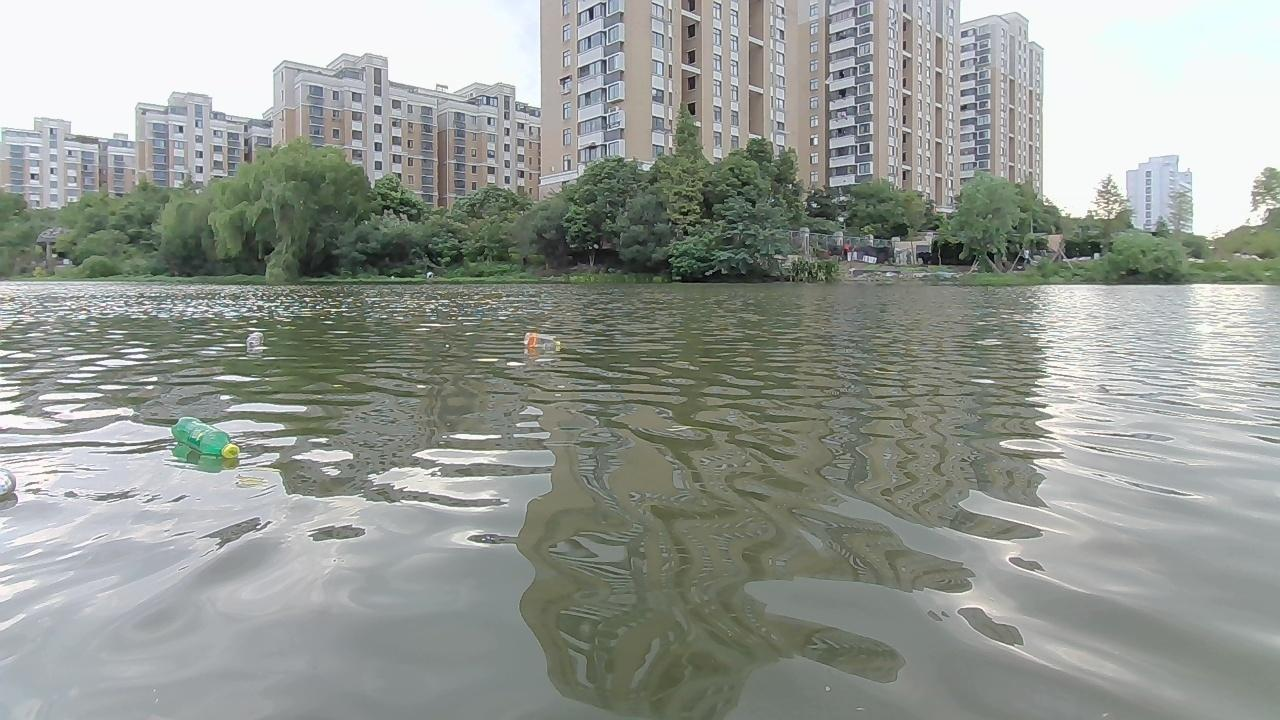bottle: (166, 414, 240, 463), (520, 327, 567, 352), (243, 332, 265, 347)
